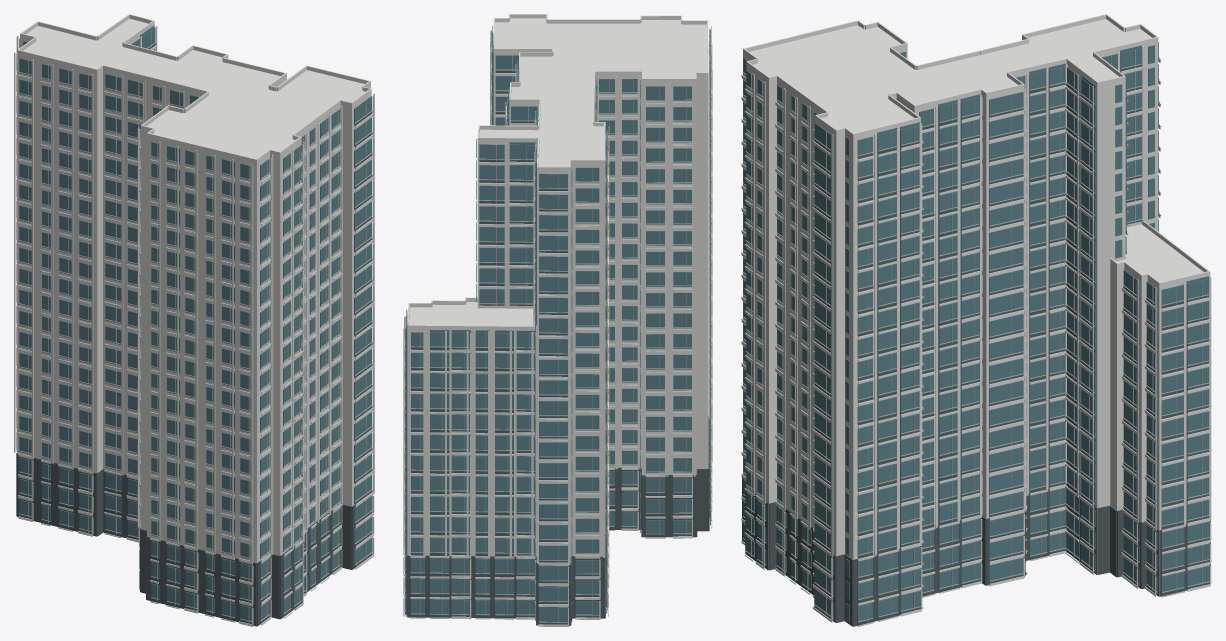
Rendered from bespoke-acro-riverpark-111.glb.
3 renders of one model, left to right at view 1: azimuth 30°, elevation 25°; view 2: azimuth 150°, elevation 25°; view 3: azimuth 270°, elevation 25°, orthographic. The views are drawn at different scales.
Visible parts, largest first — view 1: 111_R00_body, 111_R00_glass, 111_R00_frame, 111_R00_dark; view 2: 111_R00_body, 111_R00_glass, 111_R00_dark, 111_R00_frame; view 3: 111_R00_body, 111_R00_glass, 111_R00_dark, 111_R00_frame.
Part boxes in pixels (x1=…): 111_R00_body: x1=14, y1=14, x2=374, y2=626; 111_R00_glass: x1=19, y1=25, x2=372, y2=622; 111_R00_frame: x1=19, y1=31, x2=372, y2=622; 111_R00_dark: x1=16, y1=43, x2=372, y2=626; 111_R00_body: x1=403, y1=14, x2=712, y2=626; 111_R00_glass: x1=405, y1=26, x2=710, y2=622; 111_R00_dark: x1=405, y1=69, x2=709, y2=625; 111_R00_frame: x1=404, y1=29, x2=711, y2=623; 111_R00_body: x1=741, y1=14, x2=1211, y2=626; 111_R00_glass: x1=743, y1=42, x2=1209, y2=623; 111_R00_dark: x1=742, y1=58, x2=1210, y2=626; 111_R00_frame: x1=742, y1=50, x2=1209, y2=622.
Size of the model in its own units: 41.86 by 79 by 68.44.
